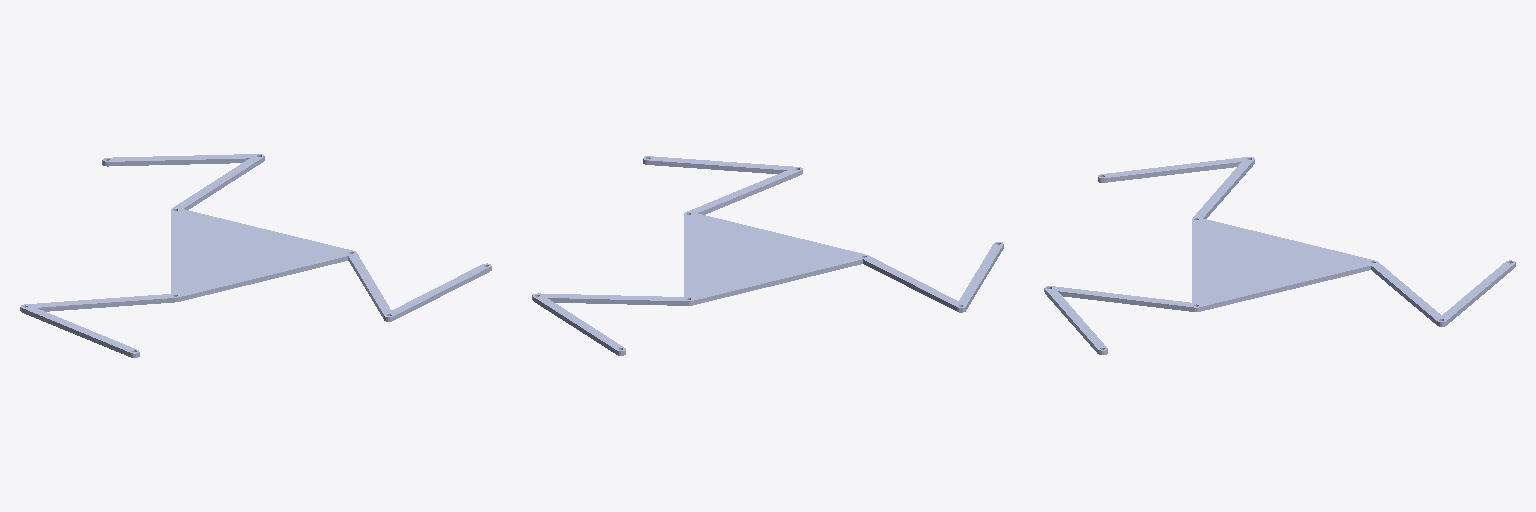
The robot description file, URDF, robot "parallel_3rrr":
<?xml version="1.0" encoding="utf-8"?>
<!-- This URDF was automatically created by SolidWorks to URDF Exporter! Originally created by [author] ([email redacted]) 
     Commit Version: 1.6.0-4-g7f85cfe  Build Version: 1.6.7995.38578
     For more information, please see http://wiki.ros.org/sw_urdf_exporter -->
<robot
  name="parallel_3rrr">
  <link
    name="base_link">
    <inertial>
      <origin
        xyz="1.2493E-17 4.1643E-17 -9.8988E-19"
        rpy="0 0 0" />
      <mass
        value="0.81361" />
      <inertia
        ixx="0.0063219"
        ixy="-2.5166E-18"
        ixz="1.0902E-18"
        iyy="0.0063219"
        iyz="-2.8025E-18"
        izz="0.01263" />
    </inertial>
    <visual>
      <origin
        xyz="0 0 0"
        rpy="0 0 0" />
      <geometry>
        <mesh
          filename="package://parallel_3rrr/meshes/base_link.STL" />
      </geometry>
      <material
        name="">
        <color
          rgba="0.79216 0.81961 0.93333 1" />
      </material>
    </visual>
    <collision>
      <origin
        xyz="0 0 0"
        rpy="0 0 0" />
      <geometry>
        <mesh
          filename="package://parallel_3rrr/meshes/base_link.STL" />
      </geometry>
    </collision>
  </link>
  <link
    name="link11">
    <inertial>
      <origin
        xyz="0.15 5.5511E-17 3.5127E-17"
        rpy="0 0 0" />
      <mass
        value="0.061571" />
      <inertia
        ixx="2.5818E-06"
        ixy="-7.6021E-20"
        ixz="1.0602E-21"
        iyy="0.00048992"
        iyz="-9.0446E-22"
        izz="0.00049148" />
    </inertial>
    <visual>
      <origin
        xyz="0 0 0"
        rpy="0 0 0" />
      <geometry>
        <mesh
          filename="package://parallel_3rrr/meshes/link11.STL" />
      </geometry>
      <material
        name="">
        <color
          rgba="0.79216 0.81961 0.93333 1" />
      </material>
    </visual>
    <collision>
      <origin
        xyz="0 0 0"
        rpy="0 0 0" />
      <geometry>
        <mesh
          filename="package://parallel_3rrr/meshes/link11.STL" />
      </geometry>
    </collision>
  </link>
  <joint
    name="joint11"
    type="continuous">
    <origin
      xyz="0 0.23094 0"
      rpy="0 0 0.46501" />
    <parent
      link="base_link" />
    <child
      link="link11" />
    <axis
      xyz="0 0 1" />
  </joint>
  <link
    name="link12">
    <inertial>
      <origin
        xyz="0.15 -2.2204E-16 1.3245E-16"
        rpy="0 0 0" />
      <mass
        value="0.061571" />
      <inertia
        ixx="2.5818E-06"
        ixy="-1.5141E-20"
        ixz="-3.2527E-21"
        iyy="0.00048992"
        iyz="-1.5123E-21"
        izz="0.00049148" />
    </inertial>
    <visual>
      <origin
        xyz="0 0 0"
        rpy="0 0 0" />
      <geometry>
        <mesh
          filename="package://parallel_3rrr/meshes/link12.STL" />
      </geometry>
      <material
        name="">
        <color
          rgba="0.79216 0.81961 0.93333 1" />
      </material>
    </visual>
    <collision>
      <origin
        xyz="0 0 0"
        rpy="0 0 0" />
      <geometry>
        <mesh
          filename="package://parallel_3rrr/meshes/link12.STL" />
      </geometry>
    </collision>
  </link>
  <joint
    name="joint12"
    type="continuous">
    <origin
      xyz="0.3 0 0"
      rpy="0 0 2.2116" />
    <parent
      link="link11" />
    <child
      link="link12" />
    <axis
      xyz="0 0 -1" />
  </joint>
  <link
    name="link21">
    <inertial>
      <origin
        xyz="0.15 -1.3878E-16 -7.3222E-17"
        rpy="0 0 0" />
      <mass
        value="0.061571" />
      <inertia
        ixx="2.5818E-06"
        ixy="-7.5704E-21"
        ixz="-1.9583E-21"
        iyy="0.00048992"
        iyz="1.9024E-22"
        izz="0.00049148" />
    </inertial>
    <visual>
      <origin
        xyz="0 0 0"
        rpy="0 0 0" />
      <geometry>
        <mesh
          filename="package://parallel_3rrr/meshes/link21.STL" />
      </geometry>
      <material
        name="">
        <color
          rgba="0.79216 0.81961 0.93333 1" />
      </material>
    </visual>
    <collision>
      <origin
        xyz="0 0 0"
        rpy="0 0 0" />
      <geometry>
        <mesh
          filename="package://parallel_3rrr/meshes/link21.STL" />
      </geometry>
    </collision>
  </link>
  <joint
    name="joint21"
    type="continuous">
    <origin
      xyz="0.2 -0.11547 0"
      rpy="0 0 -1.8453" />
    <parent
      link="base_link" />
    <child
      link="link21" />
    <axis
      xyz="0 0 1" />
  </joint>
  <link
    name="link22">
    <inertial>
      <origin
        xyz="0.15 4.4409E-16 -1.9916E-16"
        rpy="0 0 0" />
      <mass
        value="0.061571" />
      <inertia
        ixx="2.5818E-06"
        ixy="-1.9641E-20"
        ixz="-2.3829E-21"
        iyy="0.00048992"
        iyz="-4.7096E-23"
        izz="0.00049148" />
    </inertial>
    <visual>
      <origin
        xyz="0 0 0"
        rpy="0 0 0" />
      <geometry>
        <mesh
          filename="package://parallel_3rrr/meshes/link22.STL" />
      </geometry>
      <material
        name="">
        <color
          rgba="0.79216 0.81961 0.93333 1" />
      </material>
    </visual>
    <collision>
      <origin
        xyz="0 0 0"
        rpy="0 0 0" />
      <geometry>
        <mesh
          filename="package://parallel_3rrr/meshes/link22.STL" />
      </geometry>
    </collision>
  </link>
  <joint
    name="joint22"
    type="continuous">
    <origin
      xyz="0.3 0 0"
      rpy="0 0 2.2001" />
    <parent
      link="link21" />
    <child
      link="link22" />
    <axis
      xyz="0 0 1" />
  </joint>
  <link
    name="link31">
    <inertial>
      <origin
        xyz="0.15 -8.3267E-17 6.8576E-18"
        rpy="0 0 0" />
      <mass
        value="0.061571" />
      <inertia
        ixx="2.5818E-06"
        ixy="-2.7582E-20"
        ixz="1.6934E-23"
        iyy="0.00048992"
        iyz="8.022E-22"
        izz="0.00049148" />
    </inertial>
    <visual>
      <origin
        xyz="0 0 0"
        rpy="0 0 0" />
      <geometry>
        <mesh
          filename="package://parallel_3rrr/meshes/link31.STL" />
      </geometry>
      <material
        name="">
        <color
          rgba="0.79216 0.81961 0.93333 1" />
      </material>
    </visual>
    <collision>
      <origin
        xyz="0 0 0"
        rpy="0 0 0" />
      <geometry>
        <mesh
          filename="package://parallel_3rrr/meshes/link31.STL" />
      </geometry>
    </collision>
  </link>
  <joint
    name="joint31"
    type="continuous">
    <origin
      xyz="-0.2 -0.11547 0"
      rpy="0 0 2.7867" />
    <parent
      link="base_link" />
    <child
      link="link31" />
    <axis
      xyz="0 0 1" />
  </joint>
  <link
    name="link32">
    <inertial>
      <origin
        xyz="0.15 2.2204E-16 7.6979E-17"
        rpy="0 0 0" />
      <mass
        value="0.061571" />
      <inertia
        ixx="2.5818E-06"
        ixy="3.6475E-20"
        ixz="-1.5085E-21"
        iyy="0.00048992"
        iyz="-3.1167E-22"
        izz="0.00049148" />
    </inertial>
    <visual>
      <origin
        xyz="0 0 0"
        rpy="0 0 0" />
      <geometry>
        <mesh
          filename="package://parallel_3rrr/meshes/link32.STL" />
      </geometry>
      <material
        name="">
        <color
          rgba="0.79216 0.81961 0.93333 1" />
      </material>
    </visual>
    <collision>
      <origin
        xyz="0 0 0"
        rpy="0 0 0" />
      <geometry>
        <mesh
          filename="package://parallel_3rrr/meshes/link32.STL" />
      </geometry>
    </collision>
  </link>
  <joint
    name="joint32"
    type="continuous">
    <origin
      xyz="0.3 0 0"
      rpy="0 0 2.2001" />
    <parent
      link="link31" />
    <child
      link="link32" />
    <axis
      xyz="0 0 1" />
  </joint>
</robot>

--- What the picture shows (computed from the rendered views, not written in the file) ---
The picture shows the robot from 3 angles, left to right: view 1: azimuth 30°, elevation 25°; view 2: azimuth 150°, elevation 25°; view 3: azimuth 270°, elevation 25°; orthographic projection.
Model parallel_3rrr with 7 links and 6 joints (6 continuous), rooted at base_link, posed all joints at 0.
Visible links, largest first — view 1: base_link, link12, link31, link32, link22, link11, link21; view 2: base_link, link22, link11, link21, link12, link31, link32; view 3: base_link, link32, link21, link12, link11, link22, link31.
Link boxes in pixels (box(x1,y1,x2,y2)): base_link: box(171, 208, 355, 301); link12: box(102, 154, 263, 166); link31: box(20, 294, 180, 311); link32: box(22, 304, 139, 357); link22: box(384, 263, 491, 321); link11: box(173, 154, 264, 210); link21: box(347, 251, 393, 321); base_link: box(684, 212, 868, 305); link22: box(643, 156, 801, 174); link11: box(532, 293, 692, 305); link21: box(684, 167, 802, 215); link12: box(532, 293, 625, 355); link31: box(859, 254, 965, 312); link32: box(957, 242, 1003, 312); base_link: box(1192, 217, 1376, 311); link32: box(1098, 157, 1254, 182); link21: box(1045, 286, 1201, 311); link12: box(1437, 260, 1515, 326); link11: box(1368, 260, 1446, 326); link22: box(1044, 286, 1107, 354); link31: box(1192, 157, 1254, 220).
Size in the robot's own frame: 0.901 by 0.9241 by 0.01 metres.
Meshes: 7 distinct files referenced, 7 mesh visuals loaded (7 binary STL).